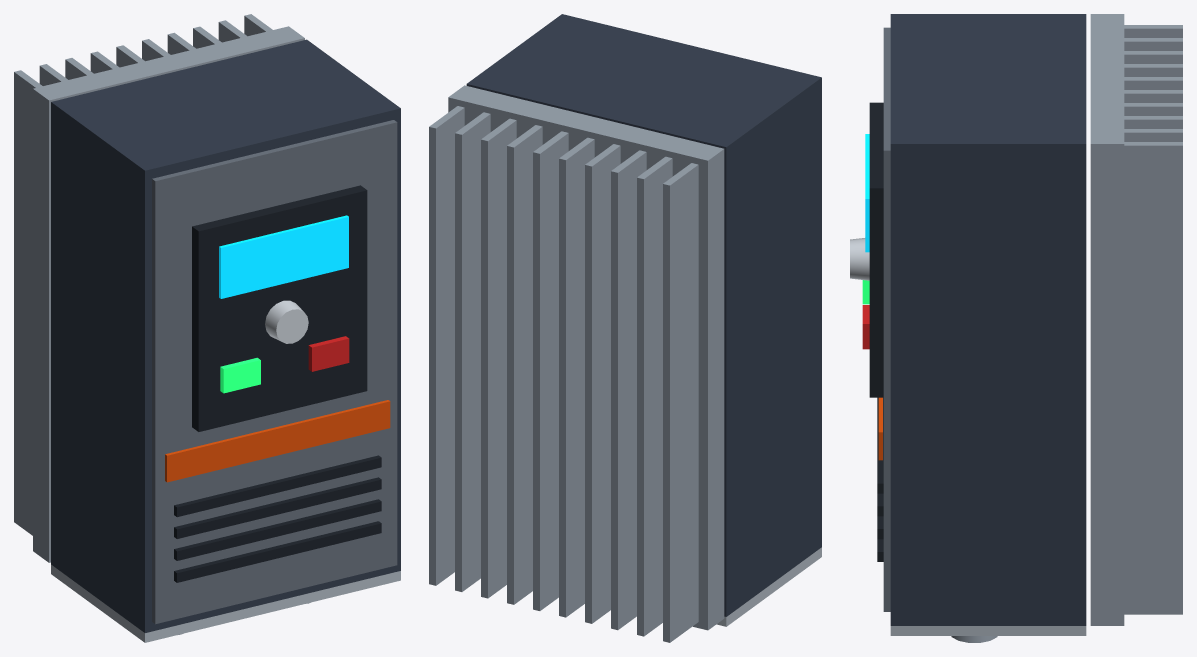
The picture shows the model from 3 angles, left to right: view 1: azimuth 30°, elevation 25°; view 2: azimuth 150°, elevation 25°; view 3: azimuth 270°, elevation 25°; orthographic projection. The views are drawn at different scales.
Visible parts, largest first — view 1: cad-vfd-drive-commercial; view 2: cad-vfd-drive-commercial; view 3: cad-vfd-drive-commercial.
Part boxes in pixels (x1=…): cad-vfd-drive-commercial: x1=14, y1=14, x2=400, y2=642; cad-vfd-drive-commercial: x1=429, y1=14, x2=821, y2=642; cad-vfd-drive-commercial: x1=850, y1=14, x2=1182, y2=642.
Bounding box in the file's own units: 0.22 × 0.411 × 0.238.
